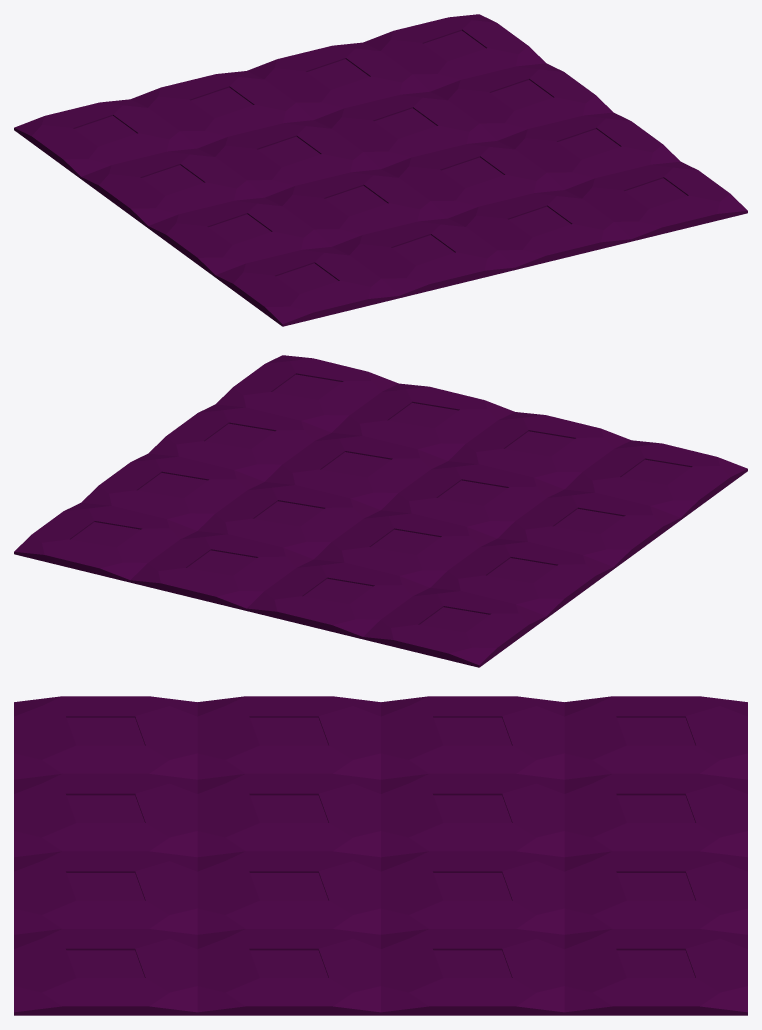
Rendered from ENV_Floor_Tiles_Placeholder.fbx.
3 renders of one model, top to bottom at view 1: azimuth 30°, elevation 25°; view 2: azimuth 150°, elevation 25°; view 3: azimuth 270°, elevation 25°, orthographic. The views are drawn at different scales.
Visible parts, largest first — view 1: Flooring; view 2: Flooring; view 3: Flooring.
Part boxes in pixels (bbox=[...]): Flooring: bbox=[14, 14, 747, 326]; Flooring: bbox=[14, 355, 747, 667]; Flooring: bbox=[14, 696, 747, 1015].
Size of the model in its own units: 800 by 800 by 16.21.
